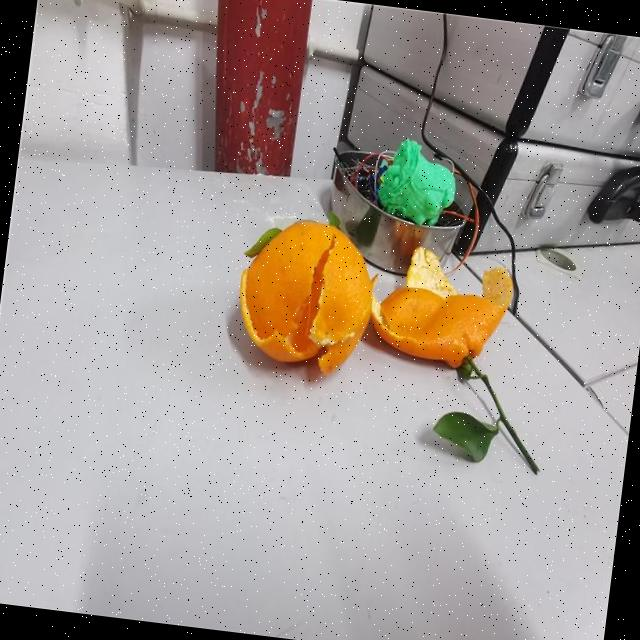orange-peel: (228, 210, 381, 378)
